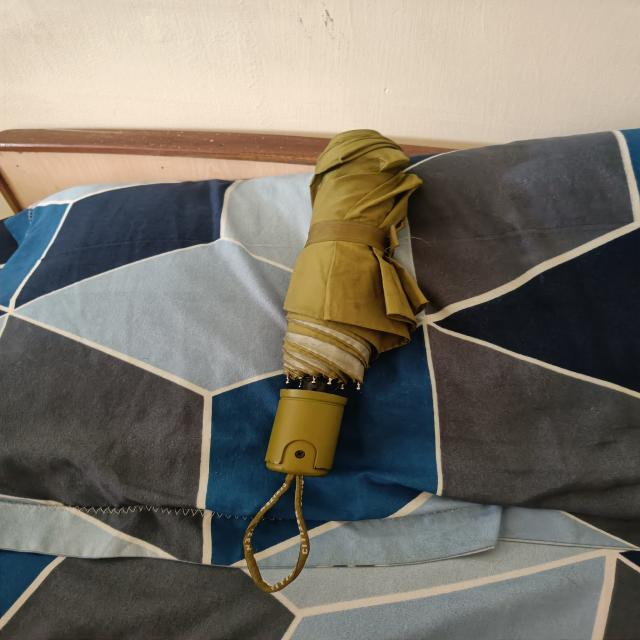umbrella: (262, 127, 435, 483)
